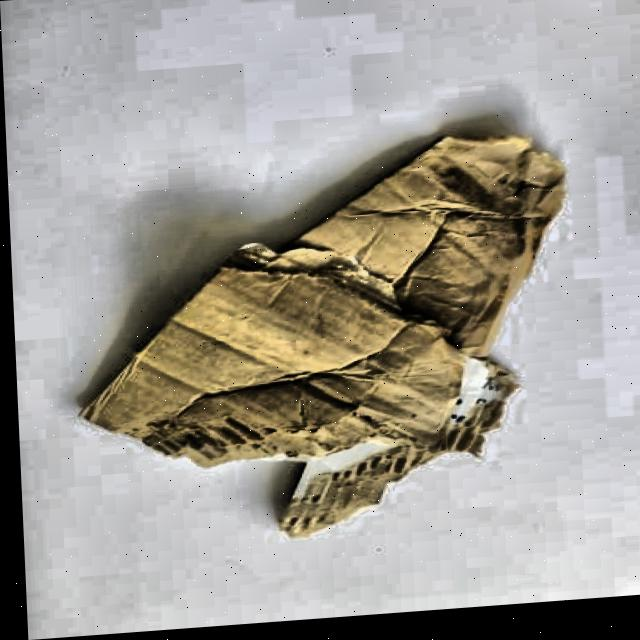cardboard: (67, 126, 585, 553)
